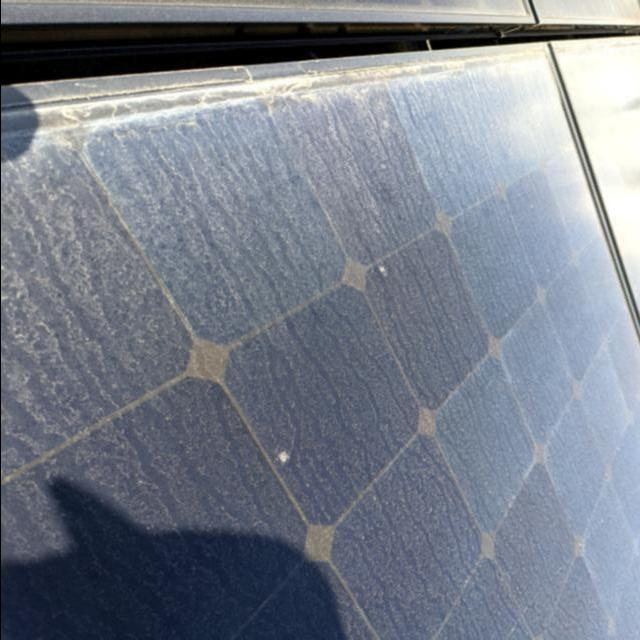soiled: (0, 48, 639, 639)
